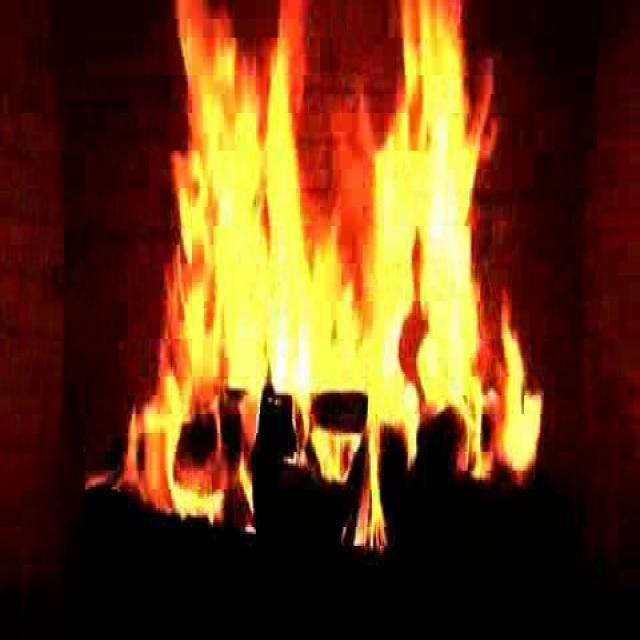Fire: (140, 2, 524, 513)
